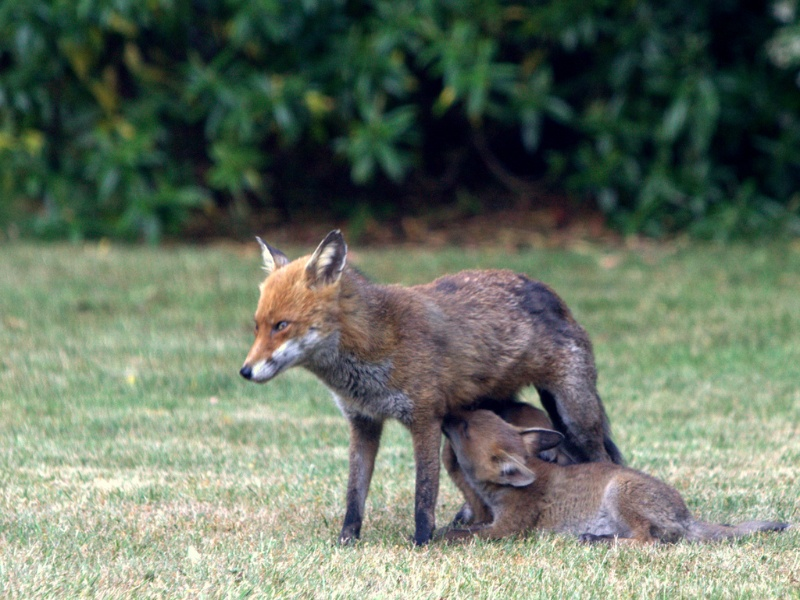fox: (238, 232, 628, 542), (445, 408, 790, 558)
